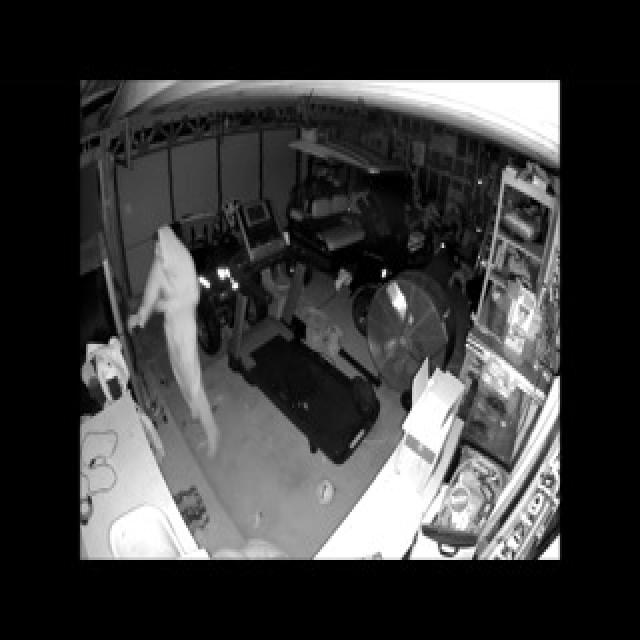thief: (146, 233, 214, 438)
